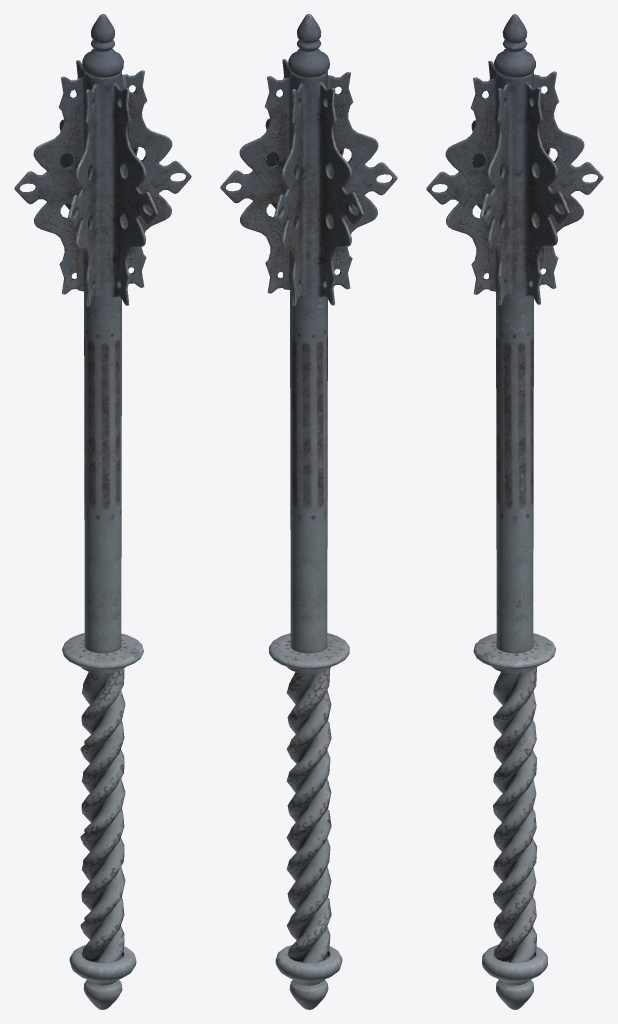
Rendered from ornate_medieval_mace.glb.
3 views of the same model, side by side, from view 1: azimuth 30°, elevation 25°; view 2: azimuth 150°, elevation 25°; view 3: azimuth 270°, elevation 25° (orthographic).
Visible parts, largest first — view 1: ornate_medieval_mace; view 2: ornate_medieval_mace; view 3: ornate_medieval_mace.
Boxes of the visible parts, x1,y1,x2,y2 form: ornate_medieval_mace: (14, 14, 191, 1009); ornate_medieval_mace: (220, 14, 397, 1009); ornate_medieval_mace: (426, 14, 603, 1009).
Bounding box in the file's own units: 0.0948 × 0.63 × 0.1017.
Materials: 1 (1 with a texture image).
